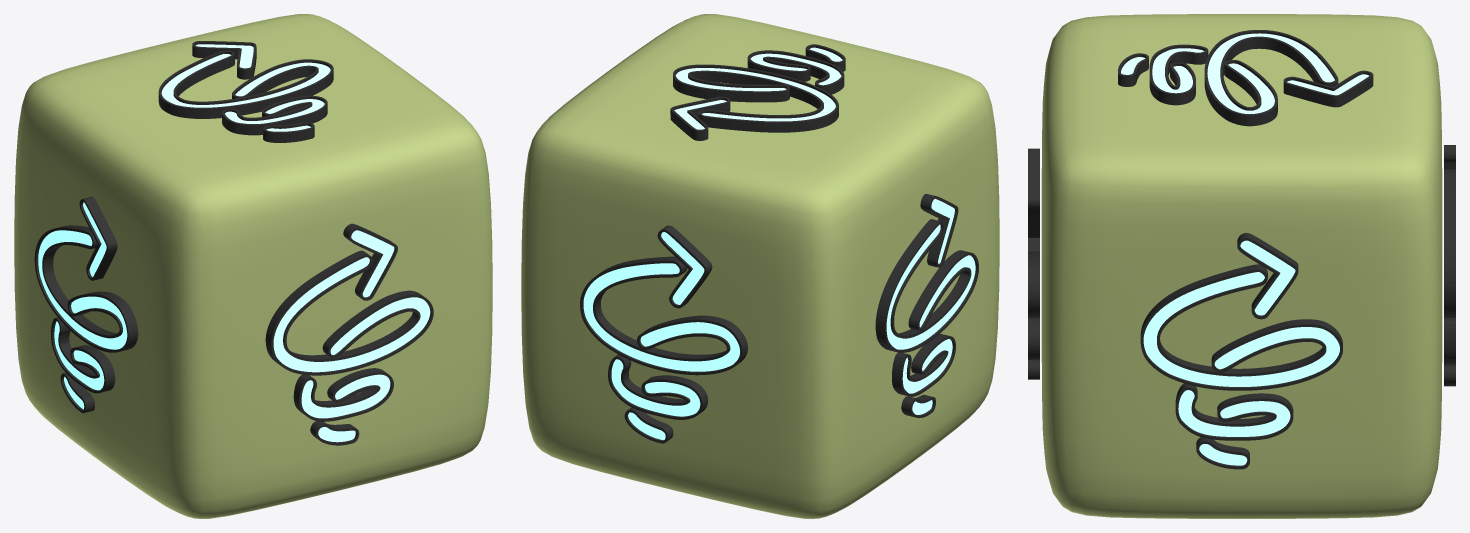
The model's file is jump collectible.fbx.
The picture shows the model from 3 angles, left to right: view 1: azimuth 30°, elevation 25°; view 2: azimuth 150°, elevation 25°; view 3: azimuth 270°, elevation 25°; orthographic projection. The views are drawn at different scales.
Visible parts, largest first — view 1: jump collectible, jump-side-face.001|border.015|Dupli|5, jump-side-face|border.015|Dupli|5, jump-side-face.001|shape 3|Dupli|4, jump-side-face.004|border.015|Dupli|5, jump-side-face.004|shape 3|Dupli|4, jump-side-face.001|border.014|Dupli|3, jump-side-face|shape 3|Dupli|4, jump-side-face|border.014|Dupli|3, jump-side-face.004|border.014|Dupli|3, jump-side-face.001|shape 2|Dupli|2, jump-side-face.004|border.016|Dupli|7 (+8 smaller); view 2: jump collectible, jump-side-face|border.015|Dupli|5, jump-side-face.004|border.015|Dupli|5, jump-side-face.003|border.015|Dupli|5, jump-side-face.003|shape 3|Dupli|4, jump-side-face.003|border.014|Dupli|3, jump-side-face.004|shape 3|Dupli|4, jump-side-face.004|border.014|Dupli|3, jump-side-face|border.014|Dupli|3, jump-side-face|shape 3|Dupli|4, jump-side-face.003|shape 2|Dupli|2, jump-side-face.003|border.016|Dupli|7 (+6 smaller); view 3: jump collectible, jump-side-face.002|border.015|Dupli|5, jump-side-face.002|shape 3|Dupli|4, jump-side-face|border.015|Dupli|5, jump-side-face.002|border.014|Dupli|3, jump-side-face.002|shape 2|Dupli|2, jump-side-face|shape 3|Dupli|4, jump-side-face|border.014|Dupli|3, jump-side-face.003|border.015|Dupli|5, jump-side-face|border.016|Dupli|7, jump-side-face.002|border.016|Dupli|7, jump-side-face.002|arrow|Dupli|6 (+8 smaller).
Boxes of the visible parts, box(x1,y1,x2,y2) form: jump collectible: box(14, 14, 492, 518); jump-side-face.001|border.015|Dupli|5: box(265, 250, 433, 375); jump-side-face|border.015|Dupli|5: box(158, 50, 333, 118); jump-side-face.001|shape 3|Dupli|4: box(273, 257, 430, 372); jump-side-face.004|border.015|Dupli|5: box(34, 225, 138, 352); jump-side-face.004|shape 3|Dupli|4: box(38, 230, 127, 349); jump-side-face.001|border.014|Dupli|3: box(293, 368, 393, 421); jump-side-face|shape 3|Dupli|4: box(161, 54, 330, 107); jump-side-face|border.014|Dupli|3: box(222, 95, 327, 135); jump-side-face.004|border.014|Dupli|3: box(51, 317, 115, 393); jump-side-face.001|shape 2|Dupli|2: box(301, 374, 390, 418); jump-side-face.004|border.016|Dupli|7: box(79, 197, 117, 280); jump collectible: box(521, 14, 999, 518); jump-side-face|border.015|Dupli|5: box(673, 64, 838, 132); jump-side-face.004|border.015|Dupli|5: box(875, 219, 978, 352); jump-side-face.003|border.015|Dupli|5: box(580, 256, 747, 375); jump-side-face.003|shape 3|Dupli|4: box(583, 263, 739, 371); jump-side-face.003|border.014|Dupli|3: box(608, 354, 708, 419); jump-side-face.004|shape 3|Dupli|4: box(886, 224, 975, 349); jump-side-face.004|border.014|Dupli|3: box(892, 334, 955, 396); jump-side-face|border.014|Dupli|3: box(747, 50, 844, 94); jump-side-face|shape 3|Dupli|4: box(675, 68, 835, 121); jump-side-face.003|shape 2|Dupli|2: box(611, 359, 700, 416); jump-side-face.003|border.016|Dupli|7: box(657, 225, 712, 308); jump collectible: box(1041, 14, 1442, 518); jump-side-face.002|border.015|Dupli|5: box(1140, 264, 1342, 390); jump-side-face.002|shape 3|Dupli|4: box(1143, 272, 1339, 386); jump-side-face|border.015|Dupli|5: box(1204, 30, 1338, 126); jump-side-face.002|border.014|Dupli|3: box(1175, 383, 1293, 440); jump-side-face.002|shape 2|Dupli|2: box(1178, 390, 1290, 436); jump-side-face|shape 3|Dupli|4: box(1207, 33, 1334, 113); jump-side-face|border.014|Dupli|3: box(1149, 44, 1208, 105); jump-side-face.003|border.015|Dupli|5: box(1444, 171, 1455, 318); jump-side-face|border.016|Dupli|7: box(1283, 70, 1373, 107); jump-side-face.002|border.016|Dupli|7: box(1237, 233, 1298, 319); jump-side-face.002|arrow|Dupli|6: box(1240, 240, 1295, 315).
Bounding box in the file's own units: 214 × 214 × 214.
